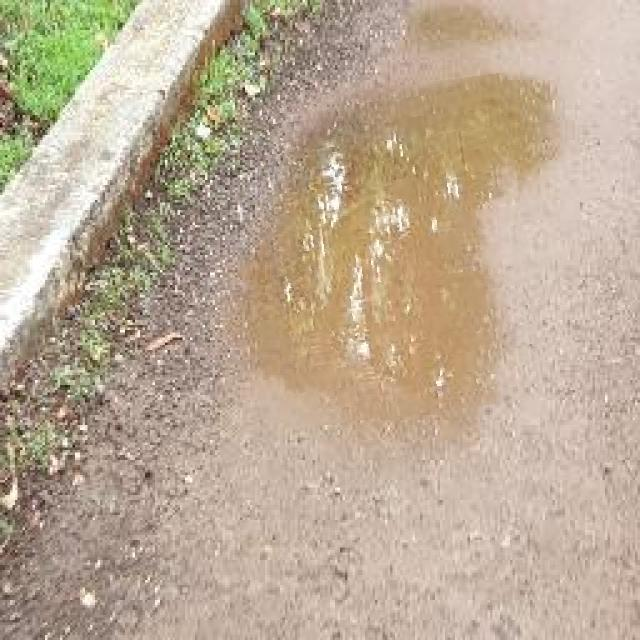puddle: (260, 81, 536, 423)
